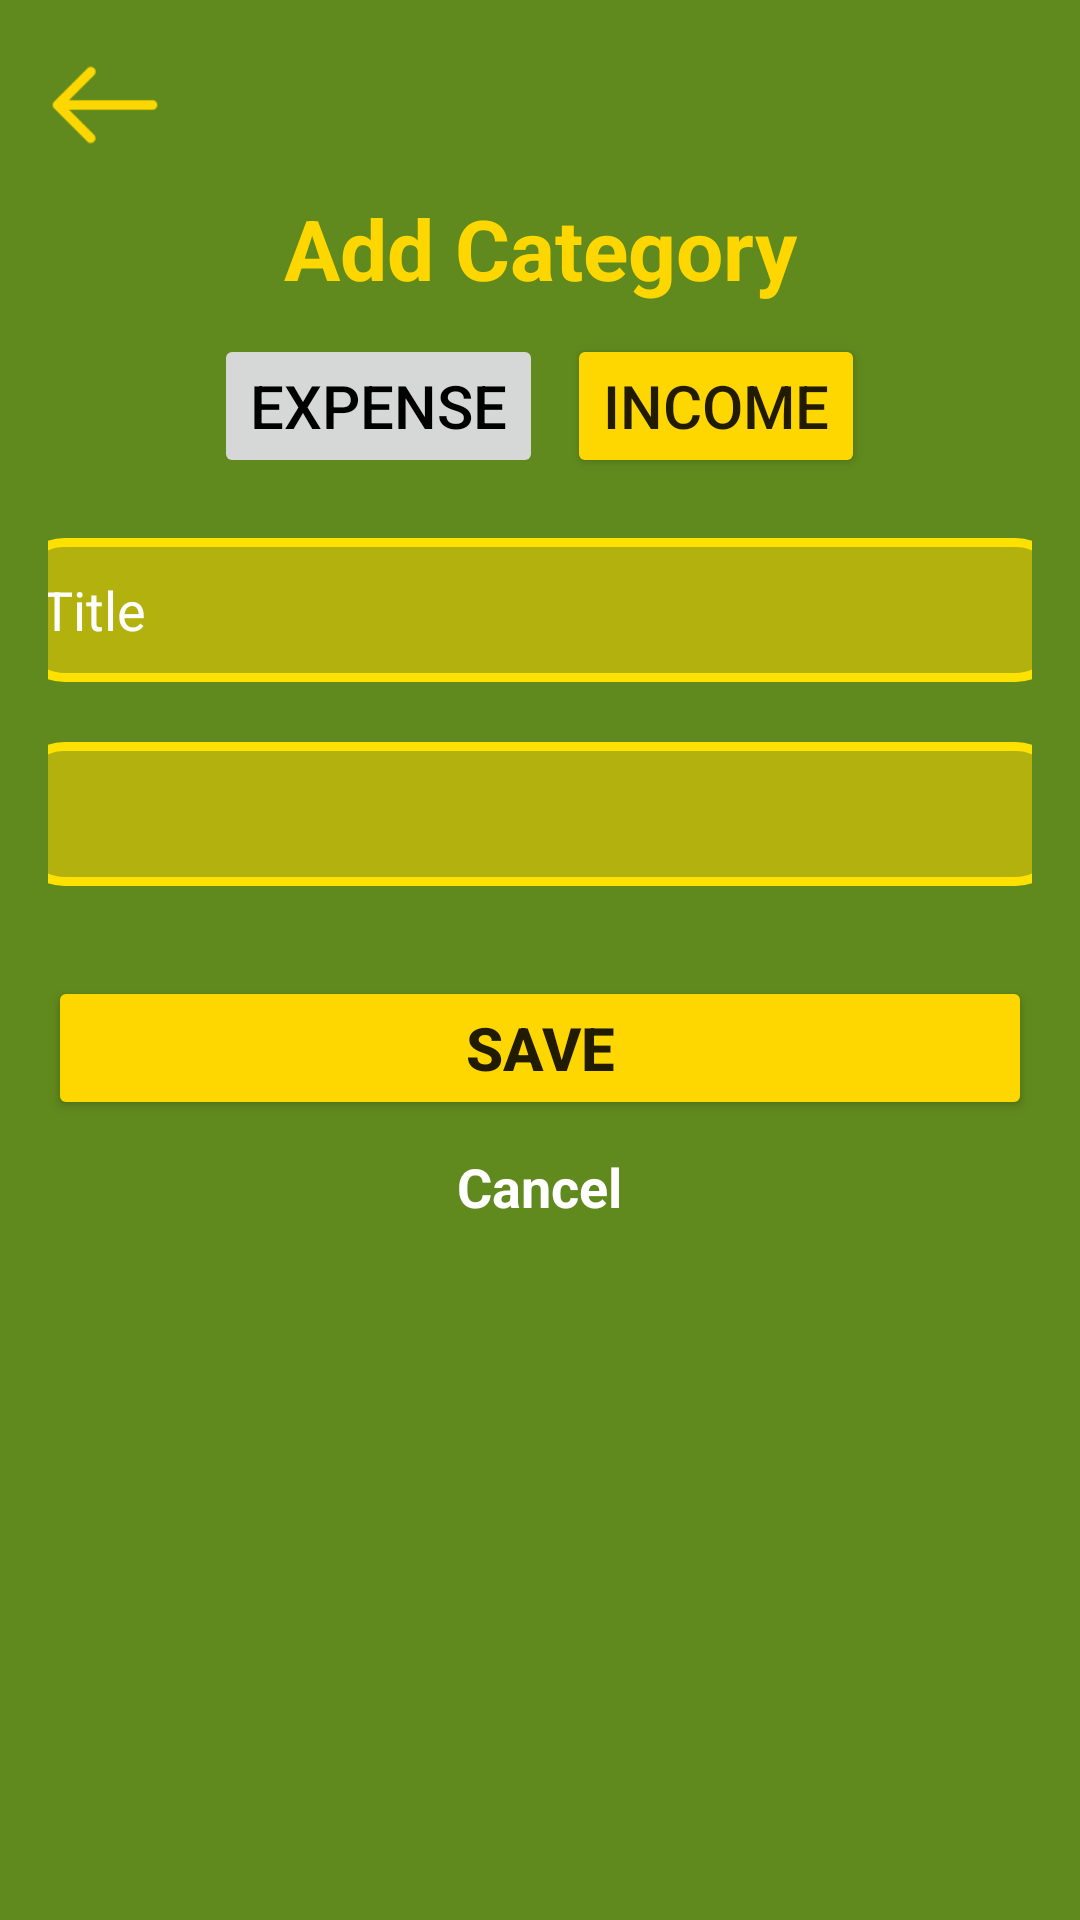

Screen size 1080×1920. Icon name, then its center in pixels as point (x, y):
back: point (105, 105)
